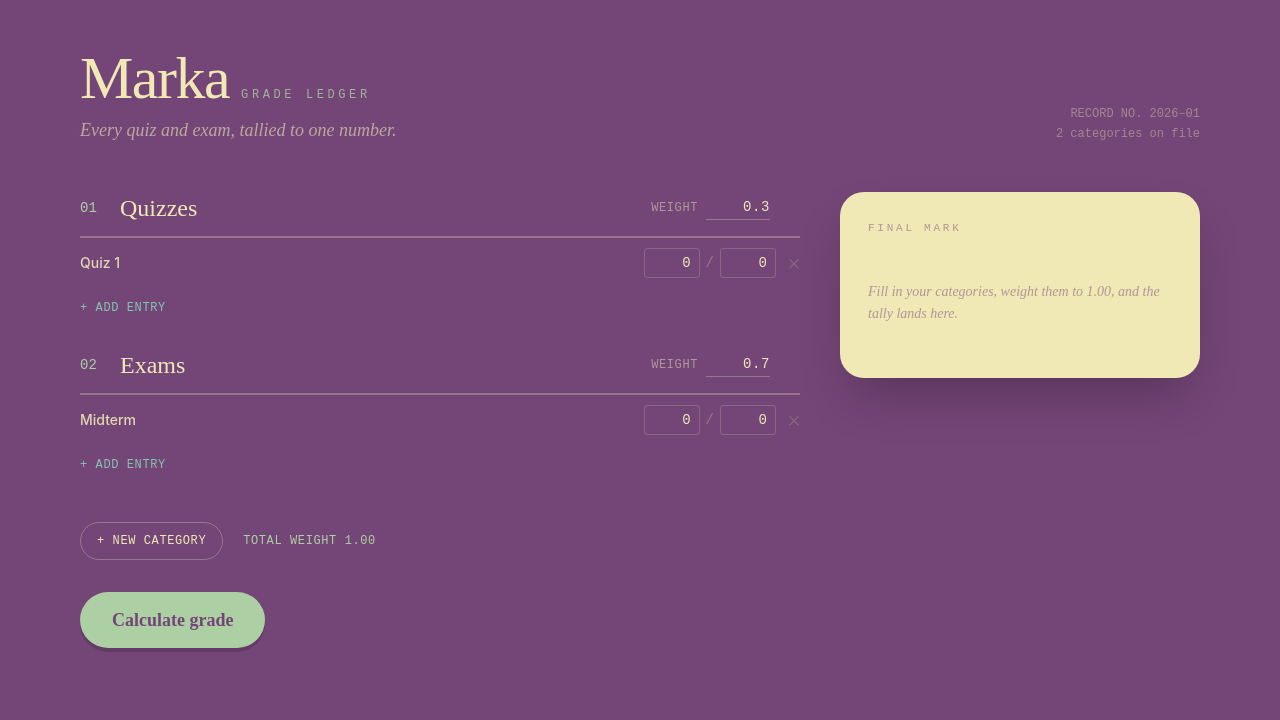
Test: App › adds a category when '+ new category' is clicked
Click the button "+ new category" at (152, 541), box x1=80 y1=522 x2=223 y2=560
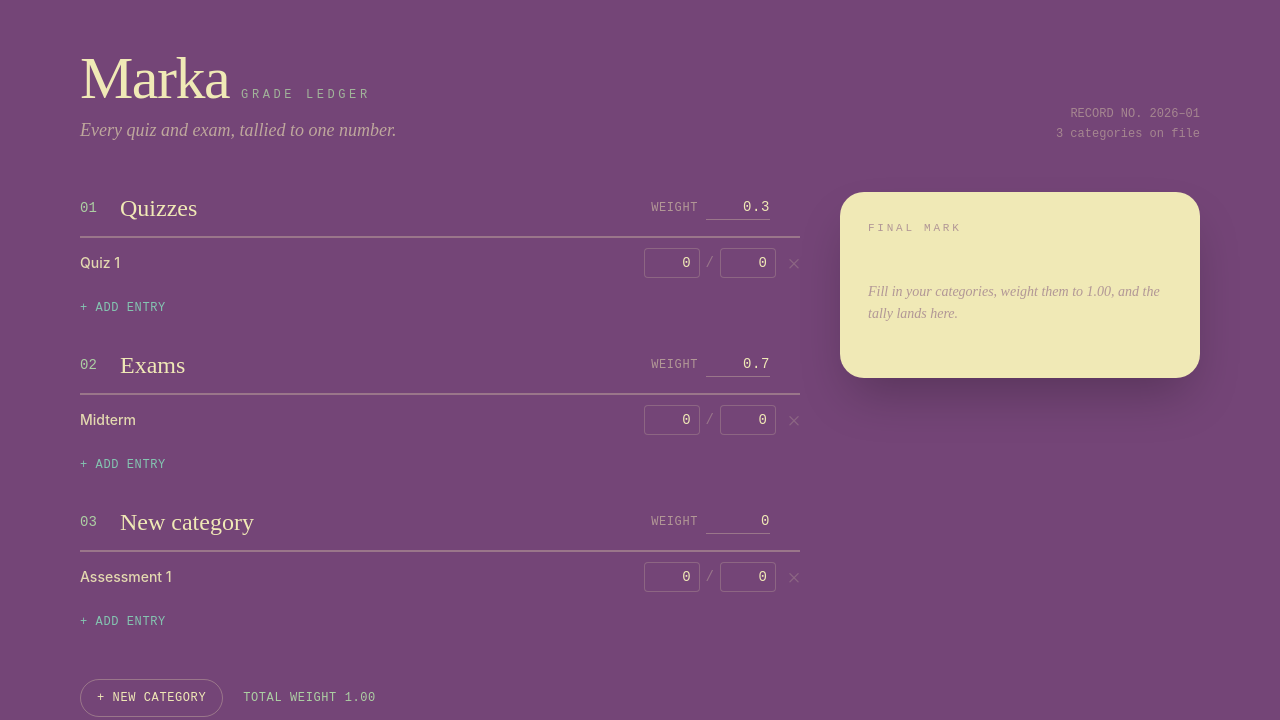
Result: the number of fields with placeholder "Category name" is 3 at x1=120 y1=192 x2=635 y2=224; x1=120 y1=349 x2=635 y2=381; x1=120 y1=506 x2=635 y2=538
